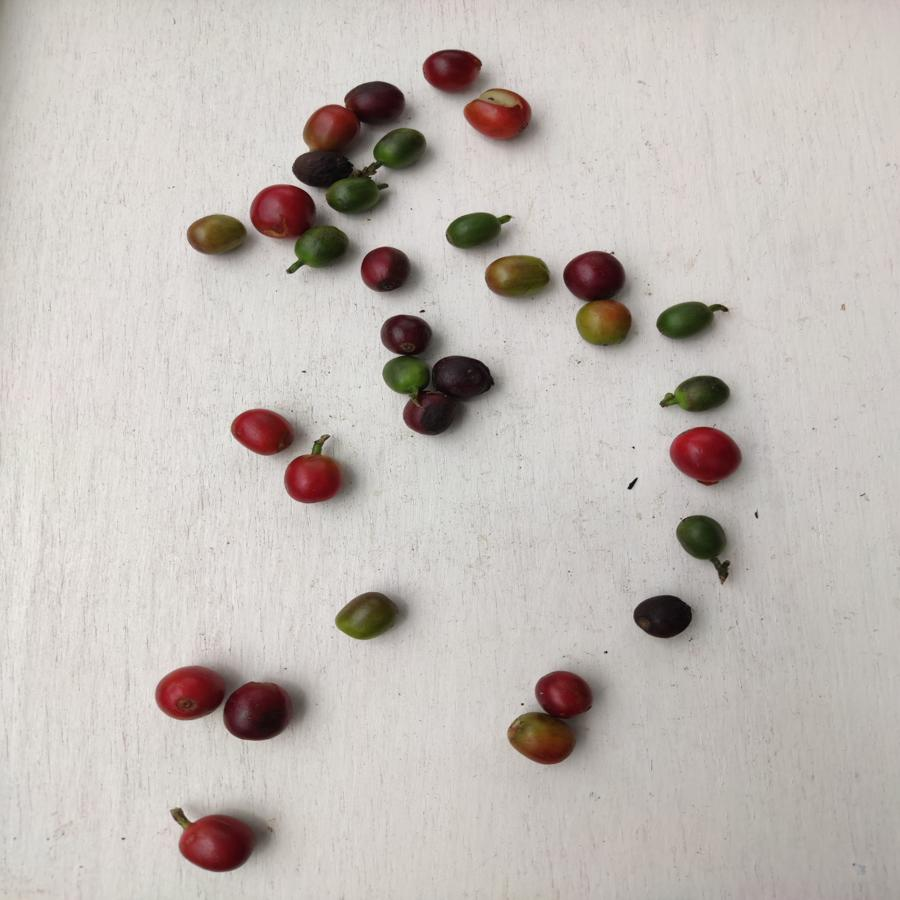Inmaduro: (676, 512, 729, 565), (370, 127, 433, 171), (324, 179, 395, 217), (656, 295, 715, 339), (294, 229, 353, 270), (670, 376, 733, 414), (443, 212, 503, 251), (378, 358, 430, 394)
Maduro: (176, 814, 257, 875), (668, 427, 745, 488), (156, 666, 223, 723), (464, 88, 535, 141), (251, 182, 315, 238), (284, 453, 344, 505), (230, 410, 297, 456), (534, 669, 596, 718), (421, 46, 483, 92), (301, 105, 360, 152)
Pinton: (504, 713, 577, 769), (484, 251, 552, 298), (334, 592, 401, 639), (186, 213, 248, 258), (576, 300, 634, 348)
Sobremaduro: (224, 681, 296, 741), (563, 250, 628, 301), (343, 79, 408, 123), (633, 594, 694, 640), (431, 355, 495, 398), (376, 313, 438, 356), (400, 392, 458, 436), (359, 246, 411, 292), (289, 150, 356, 184)
